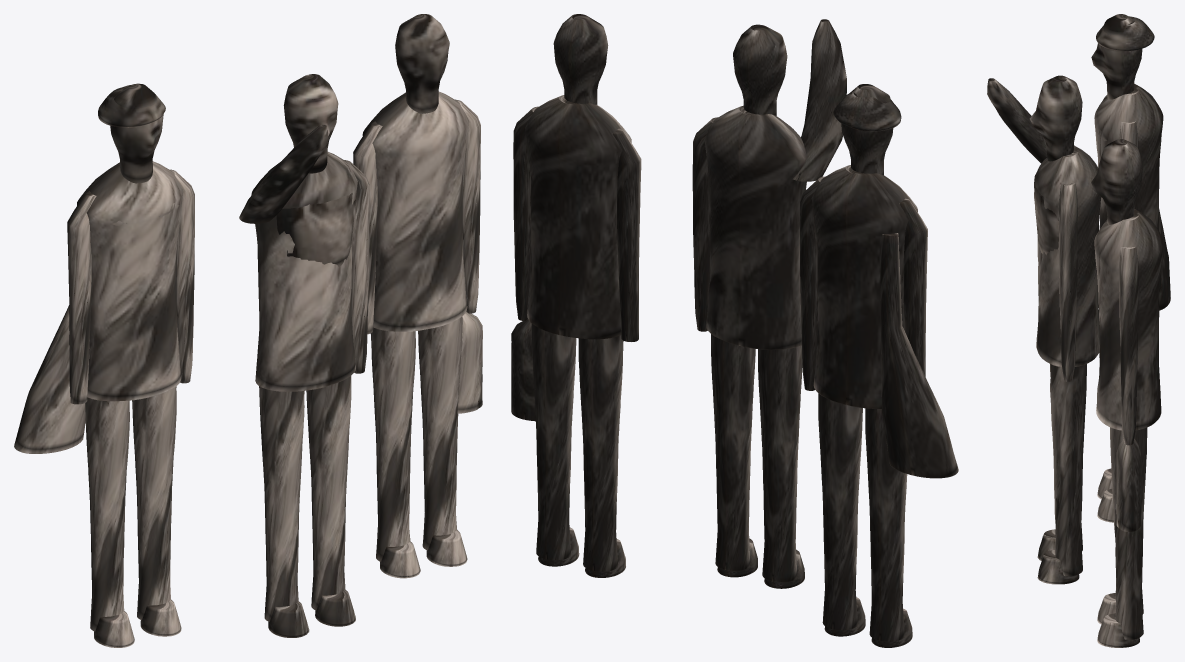
File: talent-enterprise.glb
The picture shows the model from 3 angles, left to right: view 1: azimuth 30°, elevation 25°; view 2: azimuth 150°, elevation 25°; view 3: azimuth 270°, elevation 25°; orthographic projection. The views are drawn at different scales.
Size of the model in its own units: 2.09 by 2.4 by 0.8192.
1 material, 1 textured.
